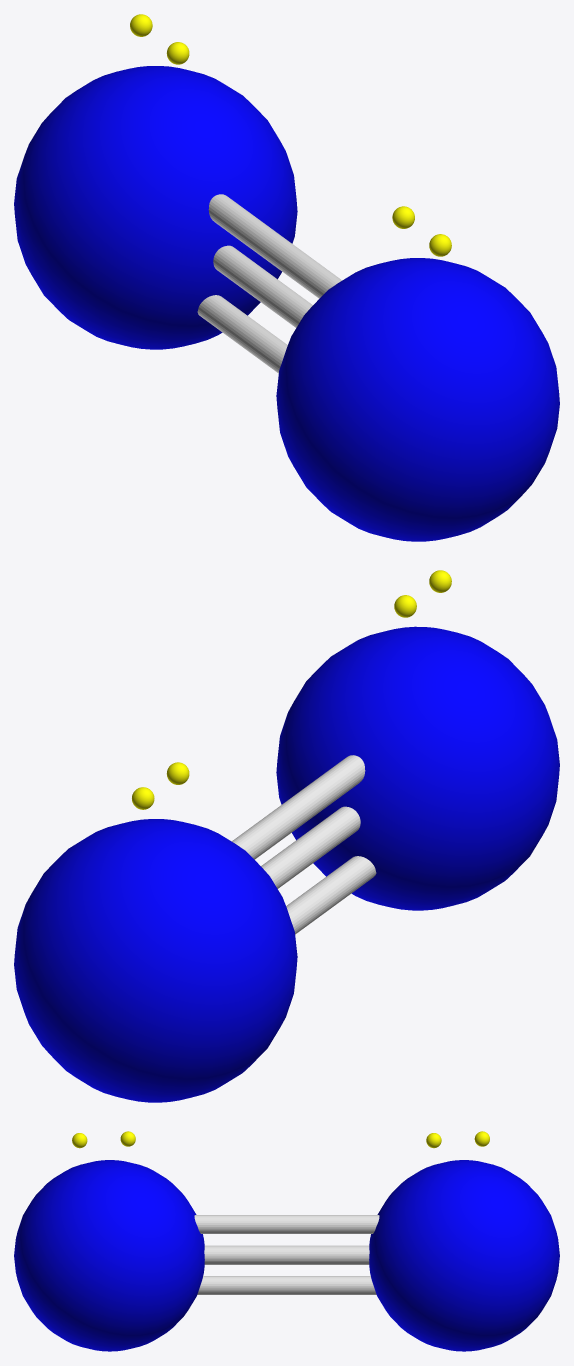
File: N2_Molecule.fbx
3 renders of one model, top to bottom at view 1: azimuth 30°, elevation 25°; view 2: azimuth 150°, elevation 25°; view 3: azimuth 270°, elevation 25°, orthographic. The views are drawn at different scales.
Parts seen in each view (by area): view 1: Sphere.009, Sphere, Cylinder, Cylinder.002, Cylinder.001; view 2: Sphere, Sphere.009, Cylinder, Cylinder.002, Cylinder.001; view 3: Sphere.009, Sphere, Cylinder, Cylinder.002, Cylinder.001.
Boxes of the visible parts, box(x1,y1,x2,y2) form: Sphere.009: box(276, 258, 559, 541); Sphere: box(14, 66, 297, 349); Cylinder: box(208, 194, 341, 298); Cylinder.002: box(213, 245, 312, 327); Cylinder.001: box(197, 295, 287, 373); Sphere: box(14, 819, 297, 1102); Sphere.009: box(276, 626, 559, 910); Cylinder: box(232, 755, 365, 859); Cylinder.002: box(261, 806, 360, 888); Cylinder.001: box(286, 856, 376, 934); Sphere.009: box(14, 1160, 204, 1351); Sphere: box(369, 1160, 559, 1351); Cylinder: box(194, 1215, 379, 1233); Cylinder.002: box(204, 1245, 369, 1264); Cylinder.001: box(197, 1276, 376, 1294).
Bounding box in the file's own units: 200 × 242 × 569.
